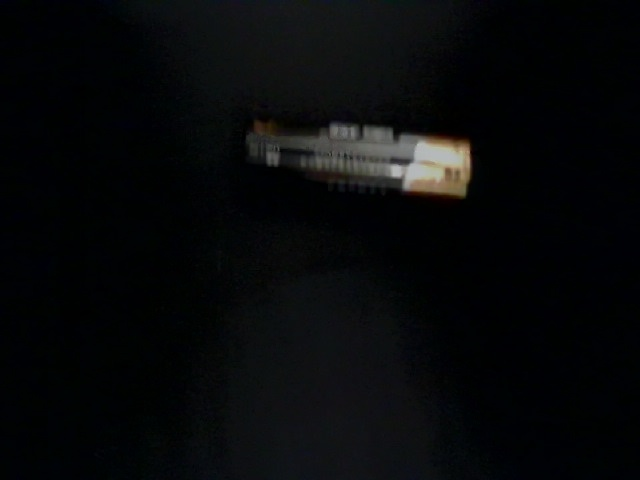YHLJ: (31, 93, 284, 258)
